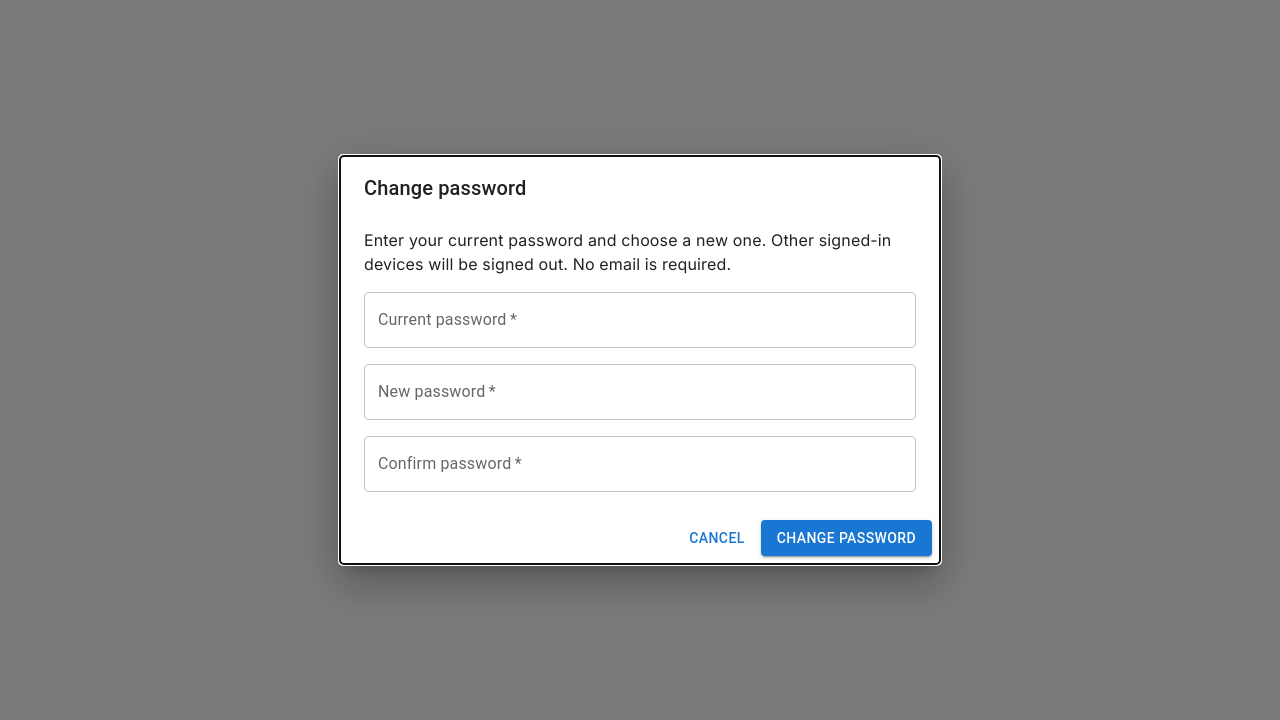
Scenario: a wrong current password leaves the dialog open with the provider error
This screenshot has width=1280, height=720.
Type "wrong" into the password field labelled "Current password *".
click(640, 320); type("wrong")  # box [364,292,916,348]
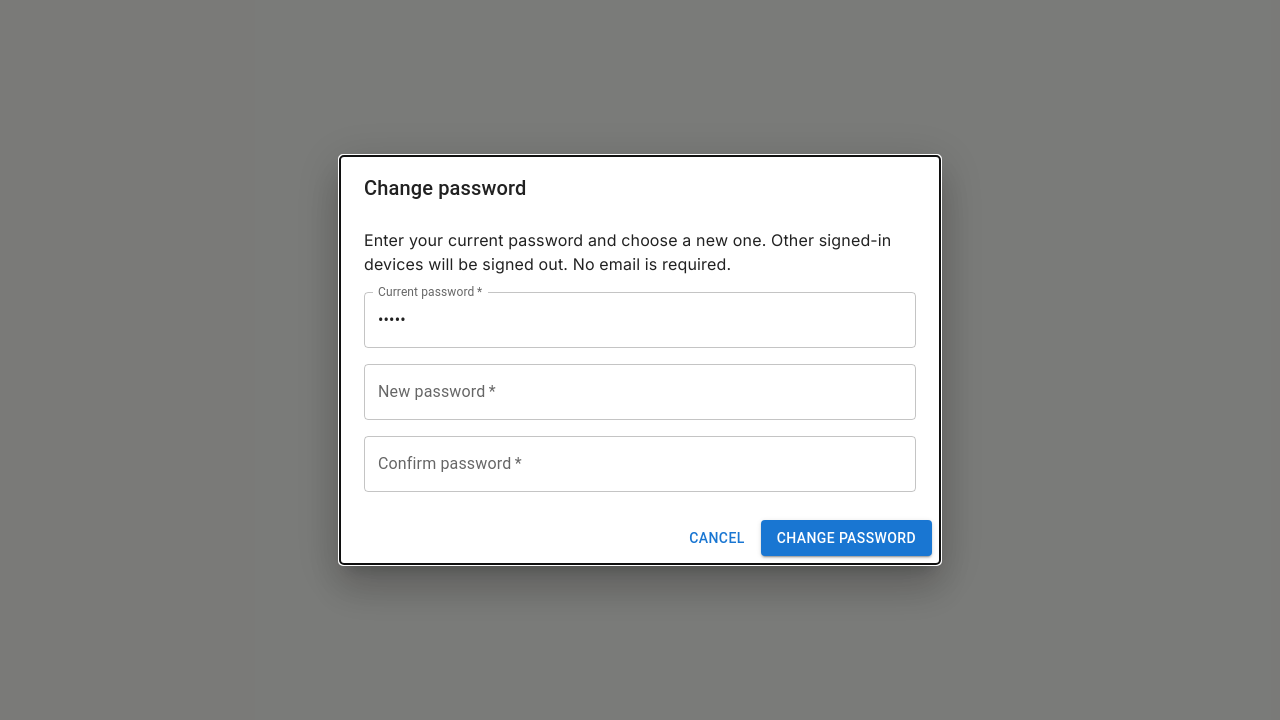
Type "New-password-5839!" into the password field labelled "New password *".
click(640, 392); type("New-password-5839!")  # box [364,364,916,420]
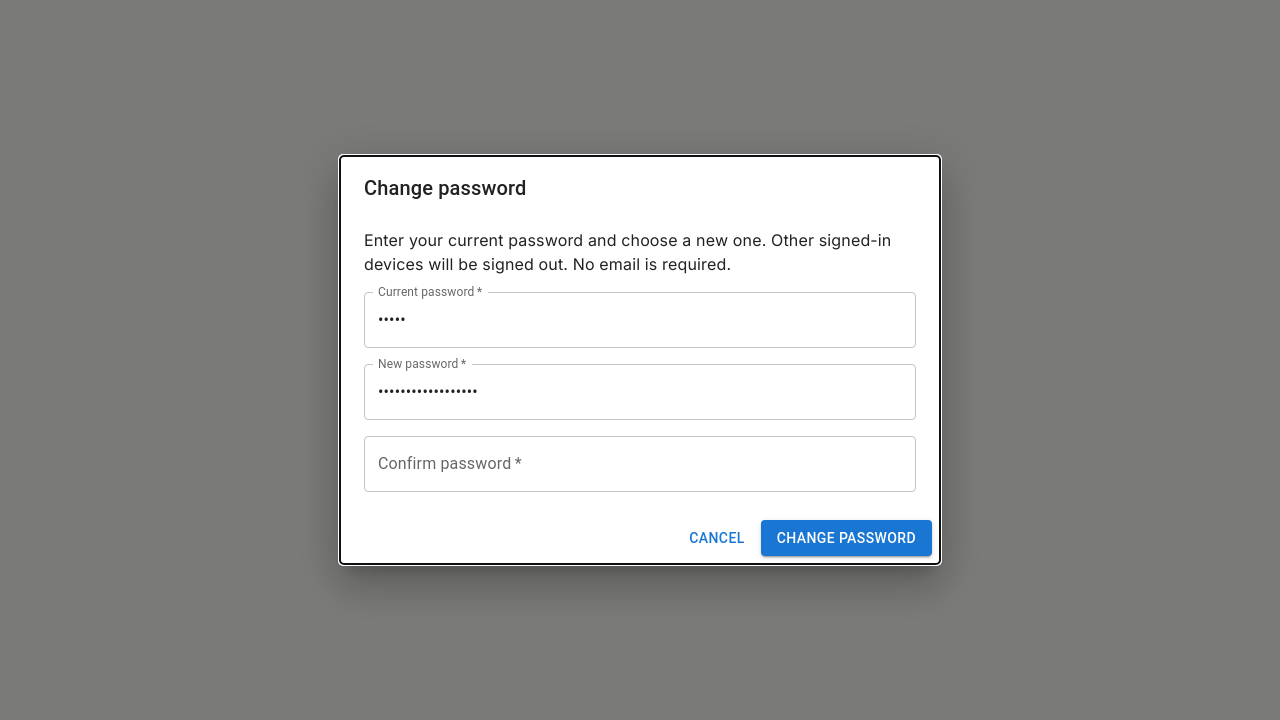
Type "New-password-5839!" into the password field labelled "Confirm password *".
click(640, 464); type("New-password-5839!")  # box [364,436,916,492]
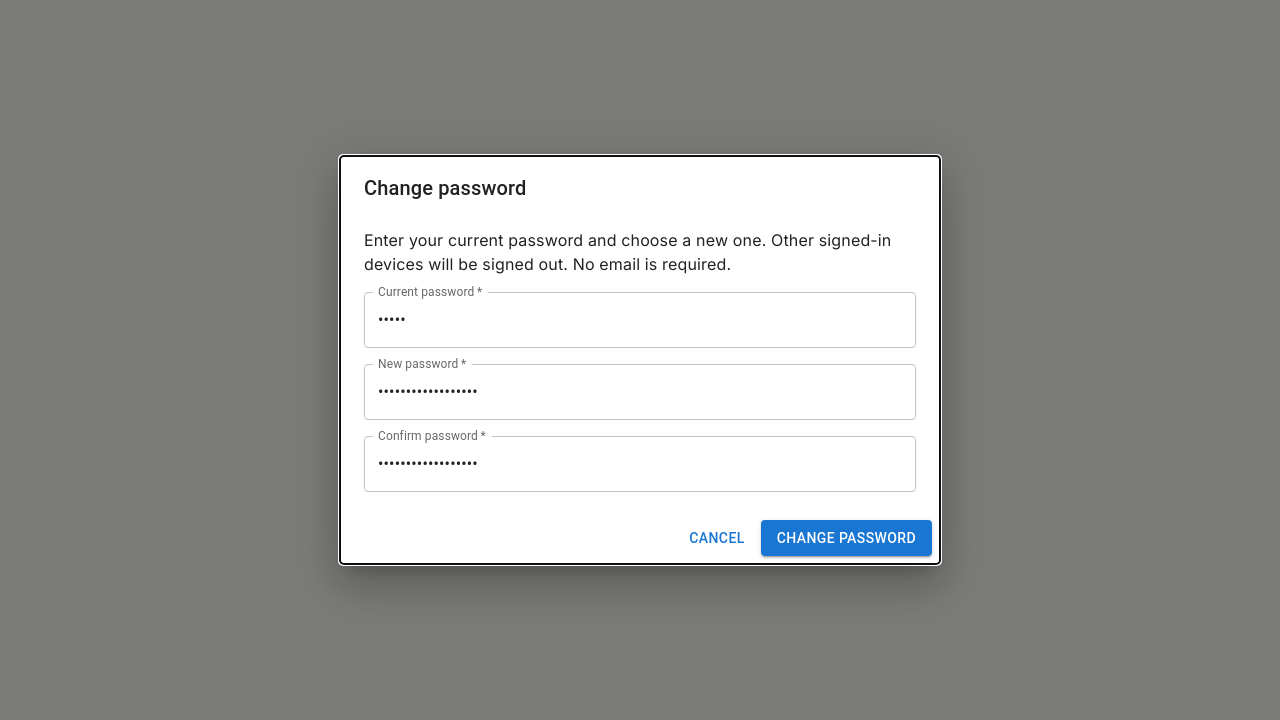
Submit the form "Change password", box [340,156,940,564]
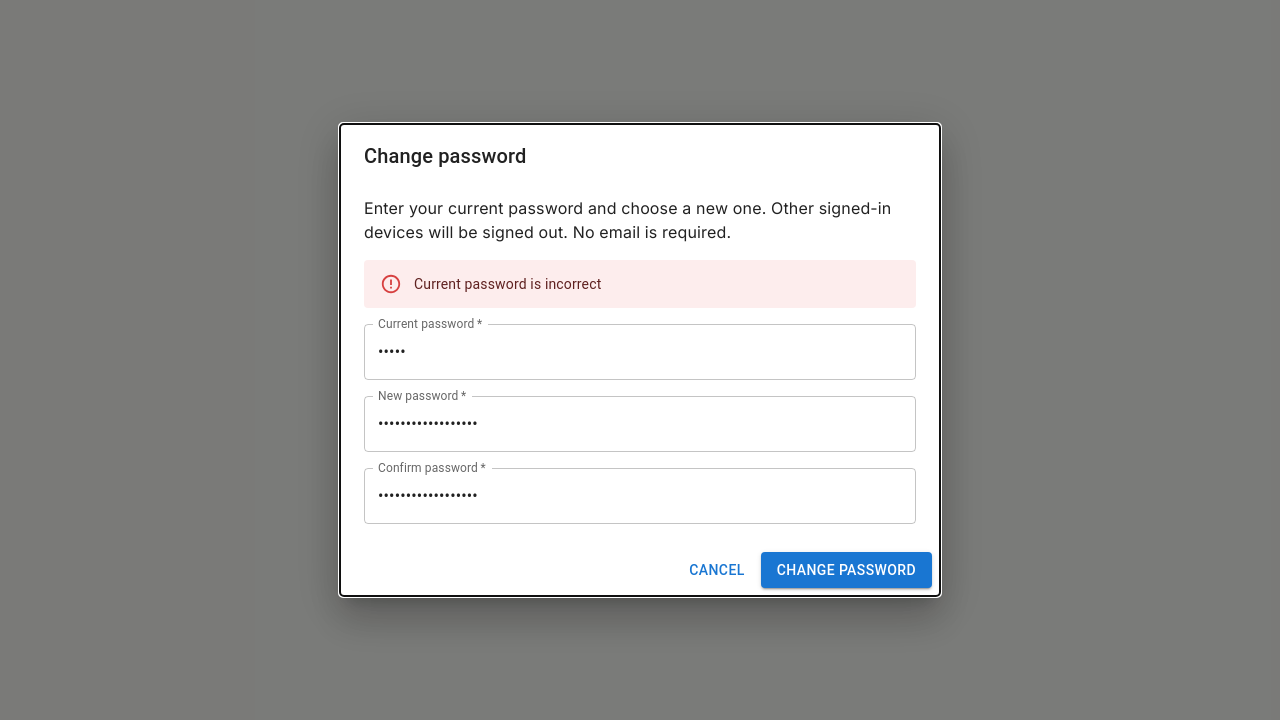
Expected: the message reads "Current password is incorrect", [414,276,601,292]
